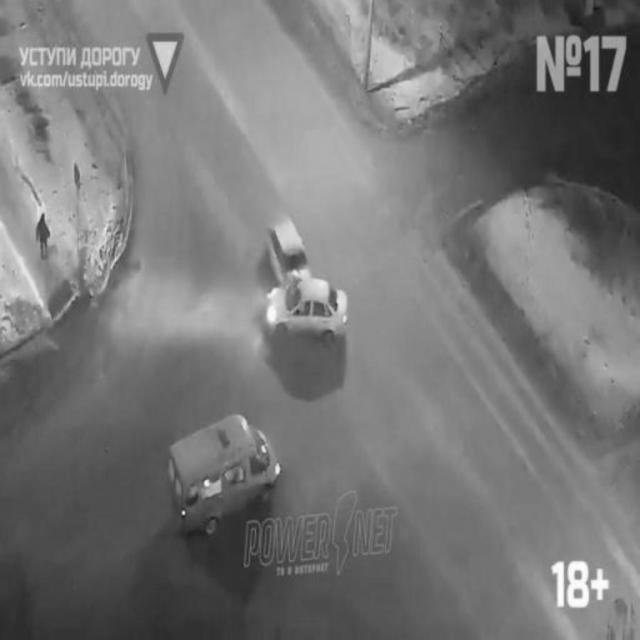accident: (263, 220, 351, 351)
person: (33, 213, 51, 261)
vehicle: (159, 417, 285, 529)
